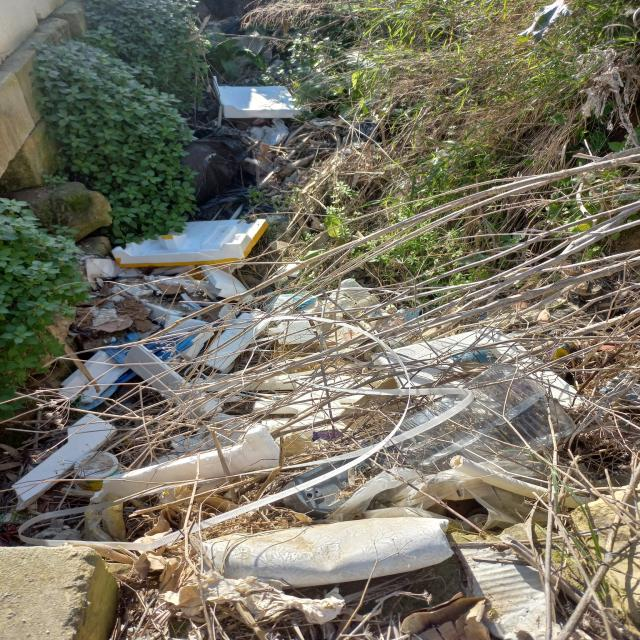Can: (273, 274, 290, 290)
Carton: (398, 591, 494, 640)
Other litter: (197, 518, 454, 588), (89, 274, 219, 303), (479, 459, 592, 483), (76, 369, 139, 410), (179, 293, 220, 310), (397, 306, 424, 321), (174, 269, 207, 280)
Other plastic: (19, 442, 378, 553), (389, 360, 576, 474), (110, 219, 270, 268), (451, 455, 595, 508), (373, 387, 478, 452), (283, 456, 378, 519), (101, 320, 222, 366), (323, 278, 391, 318), (71, 451, 126, 492), (0, 501, 36, 546), (595, 373, 640, 403), (452, 345, 500, 373), (262, 292, 316, 316), (28, 447, 57, 472)
Paper: (135, 554, 347, 627), (134, 485, 236, 538), (313, 321, 370, 356)
Plastic bag - wrapper: (315, 468, 554, 534), (179, 127, 257, 204), (193, 186, 278, 222), (238, 119, 291, 145), (344, 118, 379, 142), (551, 342, 572, 363), (313, 428, 346, 441)
Styrofoam piece: (373, 328, 589, 409), (88, 414, 281, 502), (454, 544, 591, 640), (11, 412, 116, 509), (124, 344, 241, 422), (243, 374, 378, 438), (195, 309, 274, 374), (211, 75, 309, 119), (58, 349, 131, 404), (136, 293, 209, 333), (202, 265, 254, 304), (84, 258, 142, 290), (251, 320, 318, 345), (191, 377, 239, 392), (149, 265, 195, 275), (277, 261, 301, 278)
